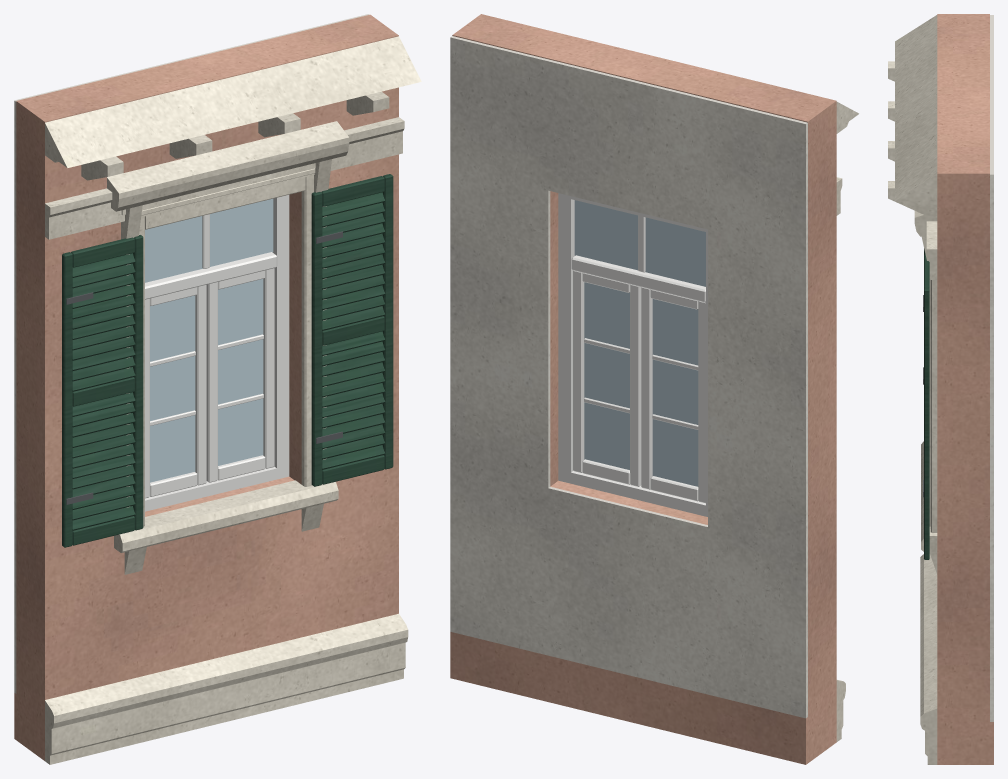
The model's file is u_wall_window.glb.
The picture shows the model from 3 angles, left to right: view 1: azimuth 30°, elevation 25°; view 2: azimuth 150°, elevation 25°; view 3: azimuth 270°, elevation 25°; orthographic projection. The views are drawn at different scales.
Visible parts, largest first — view 1: u_wall_window_render, u_wall_window_trim, u_wall_window_shutter, u_wall_window_glass, u_wall_window_sash, u_wall_window_frame, u_wall_window_plaster, u_wall_window_iron; view 2: u_wall_window_plaster, u_wall_window_render, u_wall_window_glass, u_wall_window_sash, u_wall_window_frame, u_wall_window_trim; view 3: u_wall_window_render, u_wall_window_trim, u_wall_window_plaster, u_wall_window_shutter.
Boxes of the visible parts, x1,y1,x2,y2 form: u_wall_window_render: (14, 14, 398, 760); u_wall_window_trim: (45, 36, 421, 764); u_wall_window_shutter: (62, 174, 393, 547); u_wall_window_glass: (145, 198, 273, 482); u_wall_window_sash: (145, 268, 274, 498); u_wall_window_frame: (145, 195, 289, 511); u_wall_window_plaster: (14, 14, 368, 693); u_wall_window_iron: (66, 231, 342, 504); u_wall_window_plaster: (450, 36, 807, 718); u_wall_window_render: (450, 14, 836, 764); u_wall_window_glass: (574, 200, 705, 486); u_wall_window_sash: (573, 270, 705, 503); u_wall_window_frame: (558, 193, 707, 516); u_wall_window_trim: (836, 102, 858, 741); u_wall_window_render: (937, 14, 993, 764); u_wall_window_trim: (888, 15, 937, 764); u_wall_window_plaster: (990, 15, 993, 721); u_wall_window_shutter: (924, 248, 929, 559).
Size of the model in its own units: 2 by 3.45 by 0.56.
Materials: 9 (4 with a texture image).
